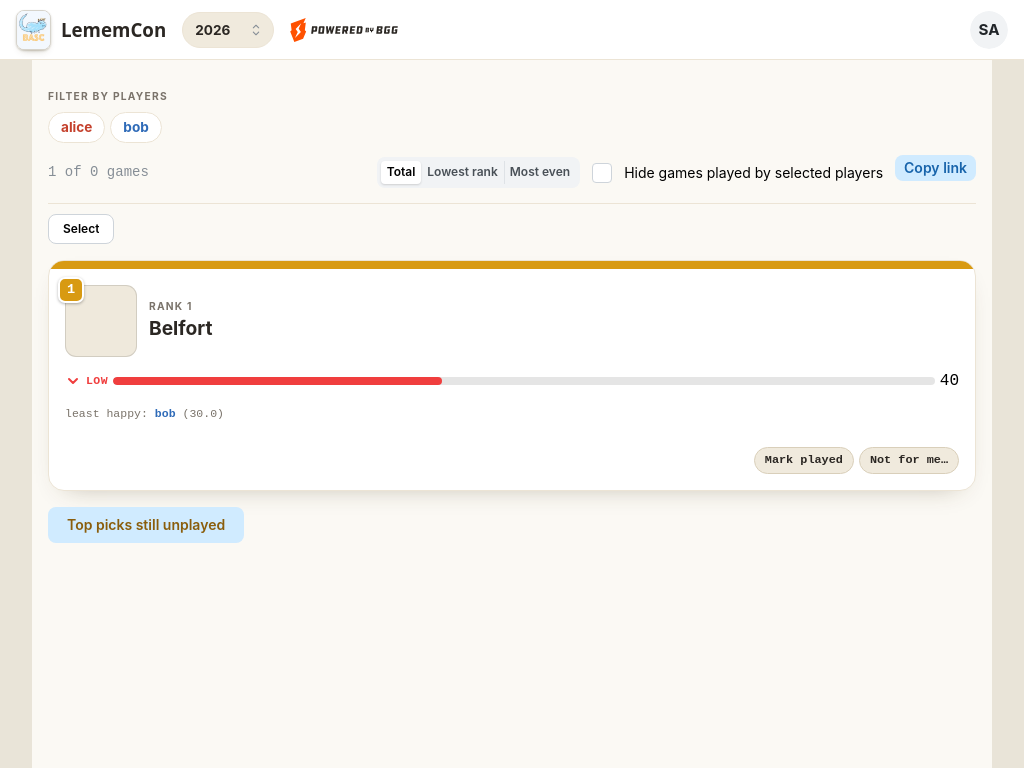
Scoreboard › member vetoes › vetoes a game for every year from its card
Click the button with aria-label "Veto: Belfort" at x=909, y=461, box [859,447,959,474]
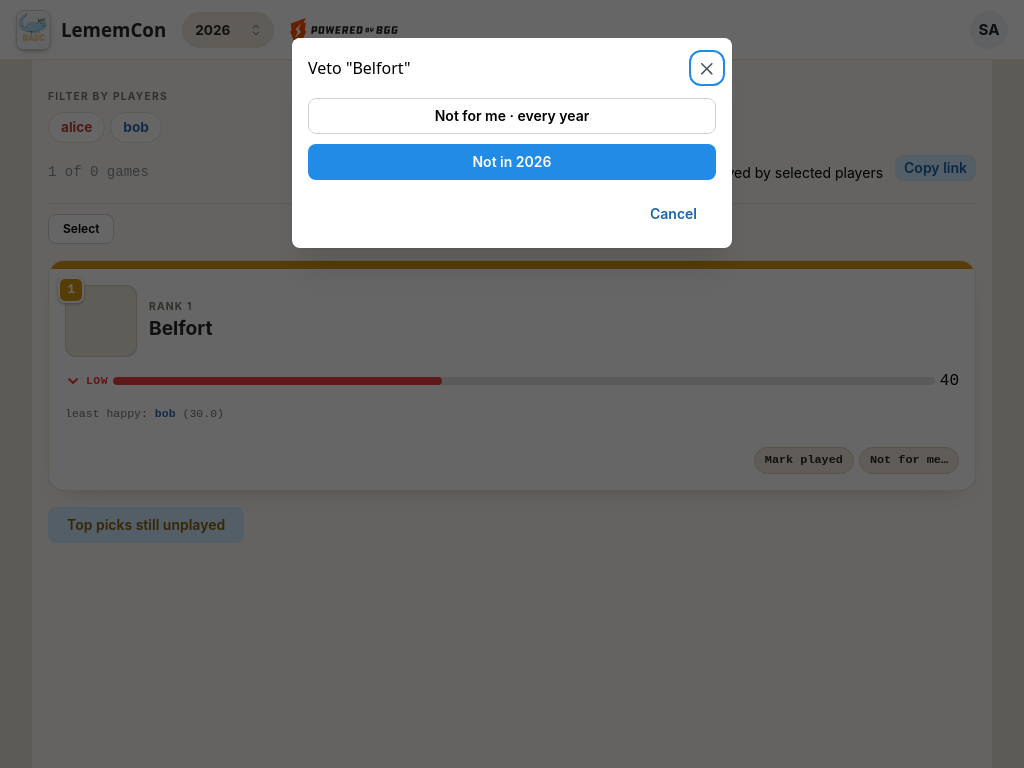
Click the button "Not for me · every year" at x=512, y=116, box [308,98,716,134]
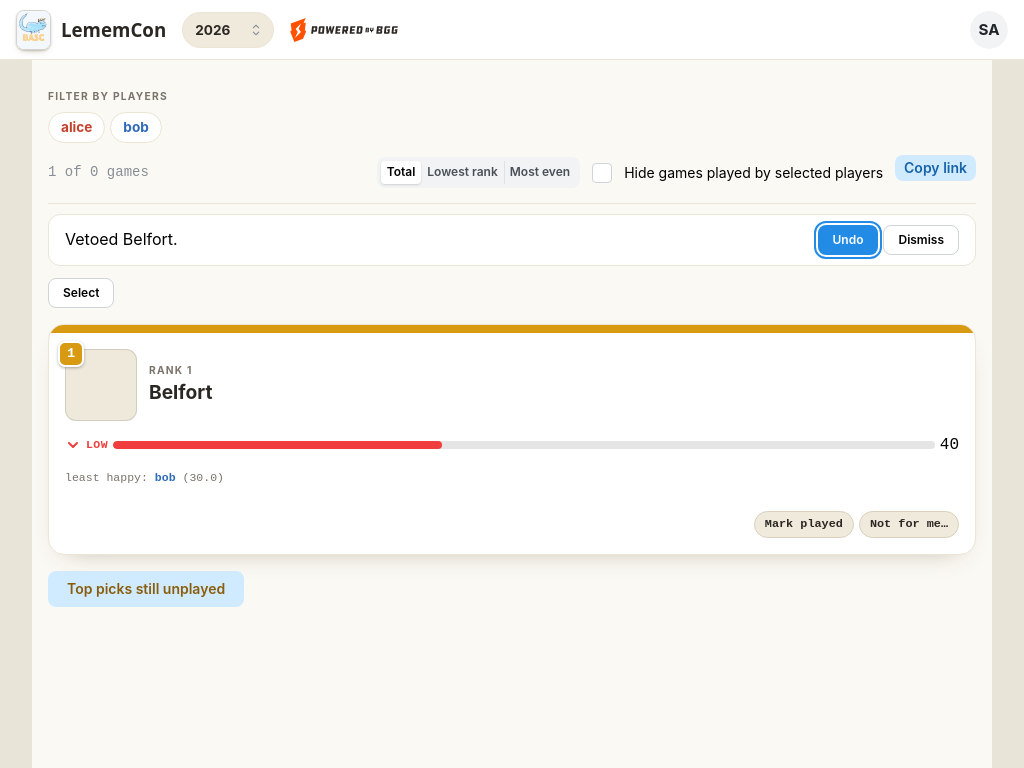
Expected: the dialog is gone
